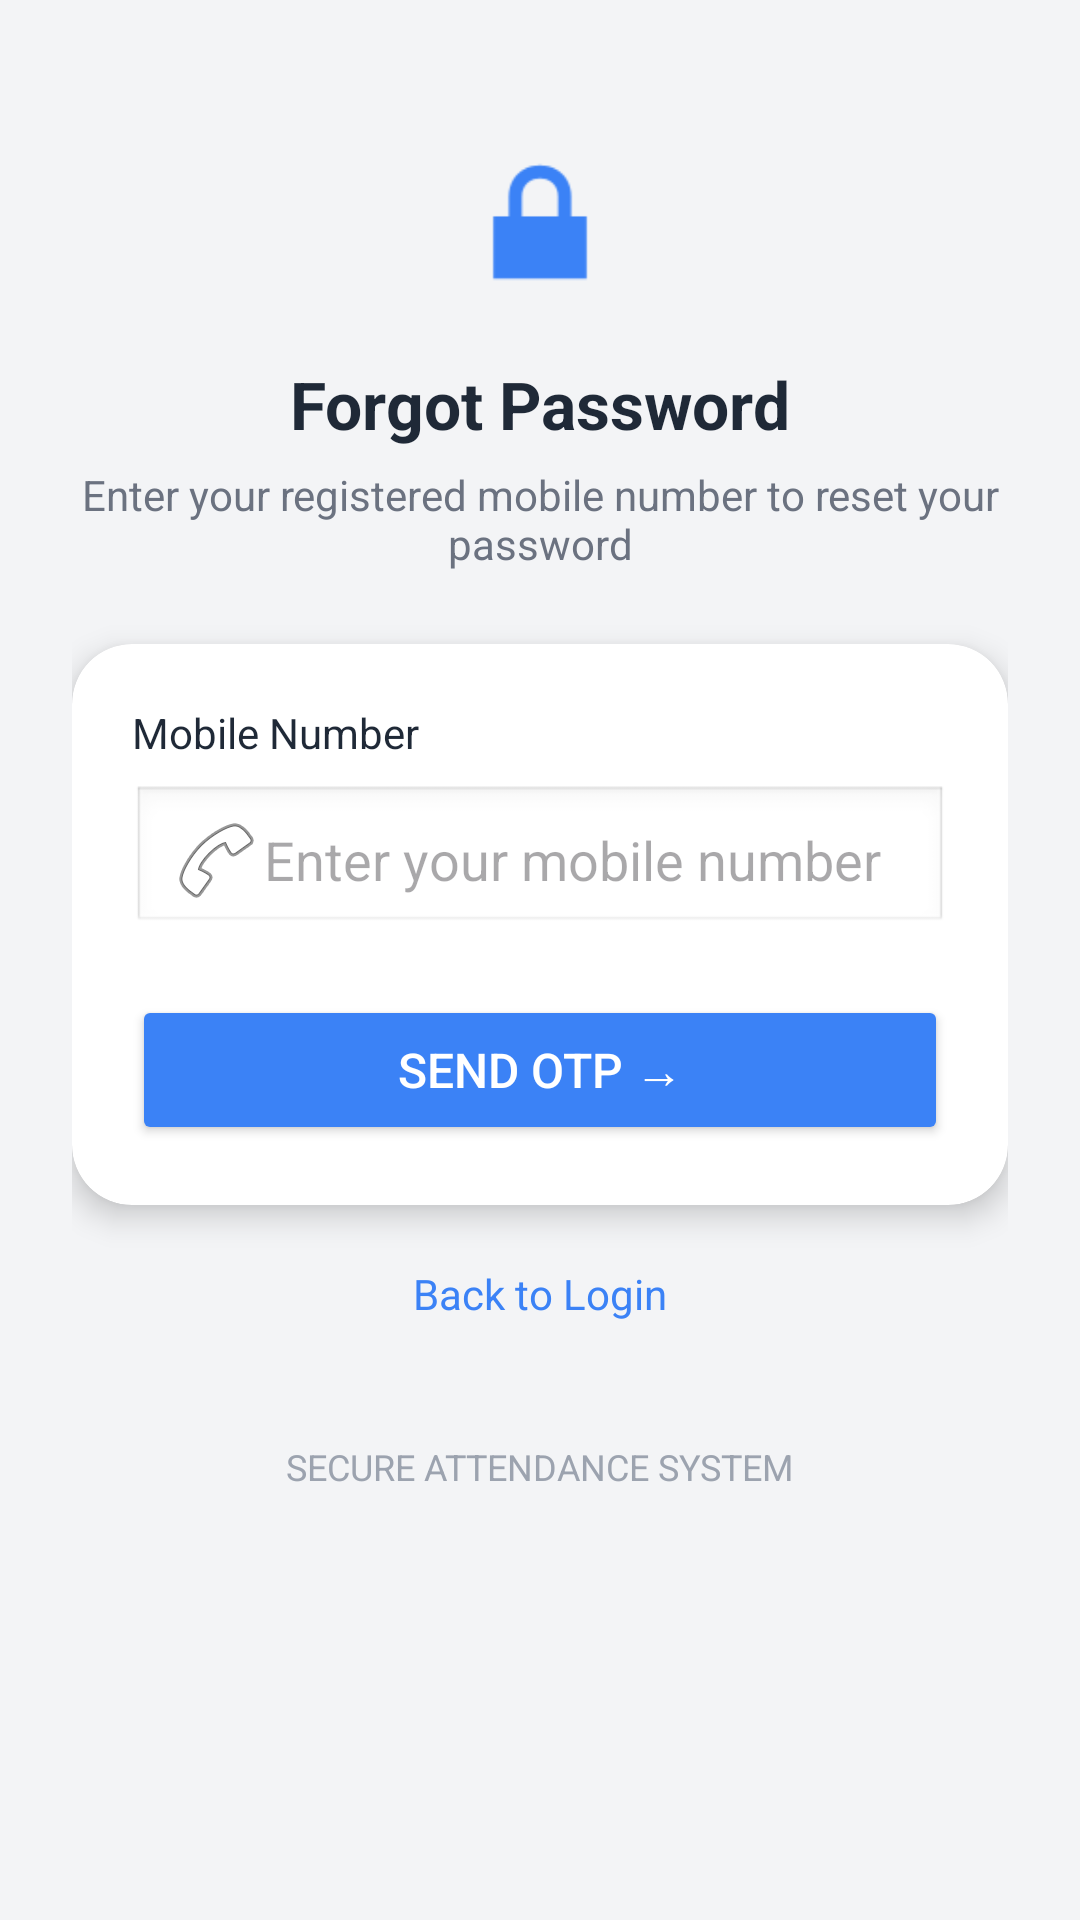

Point at icon controls on the screen. Image size 1080px x 1920px, points as point (x, y).
lock: point (540, 222)
